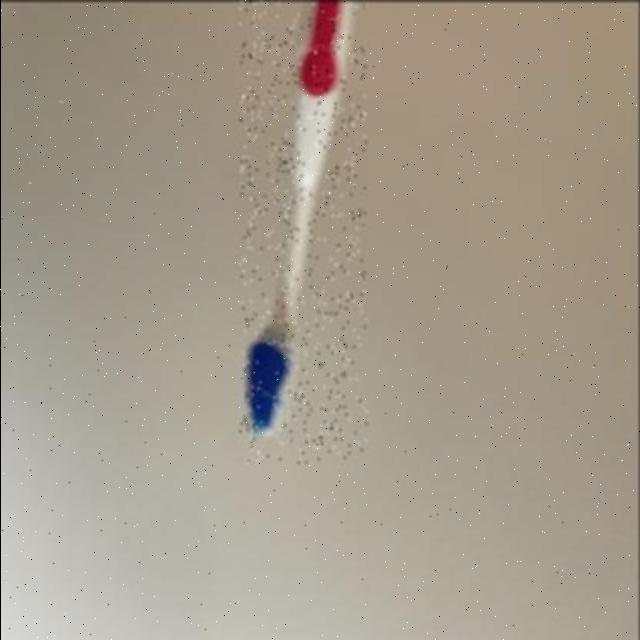toothbrush: (240, 1, 368, 462)
